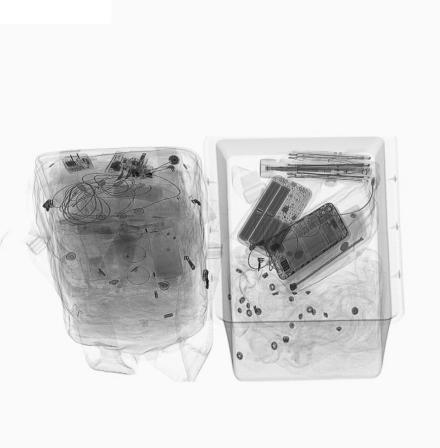Powerbank: (232, 175, 315, 259)
